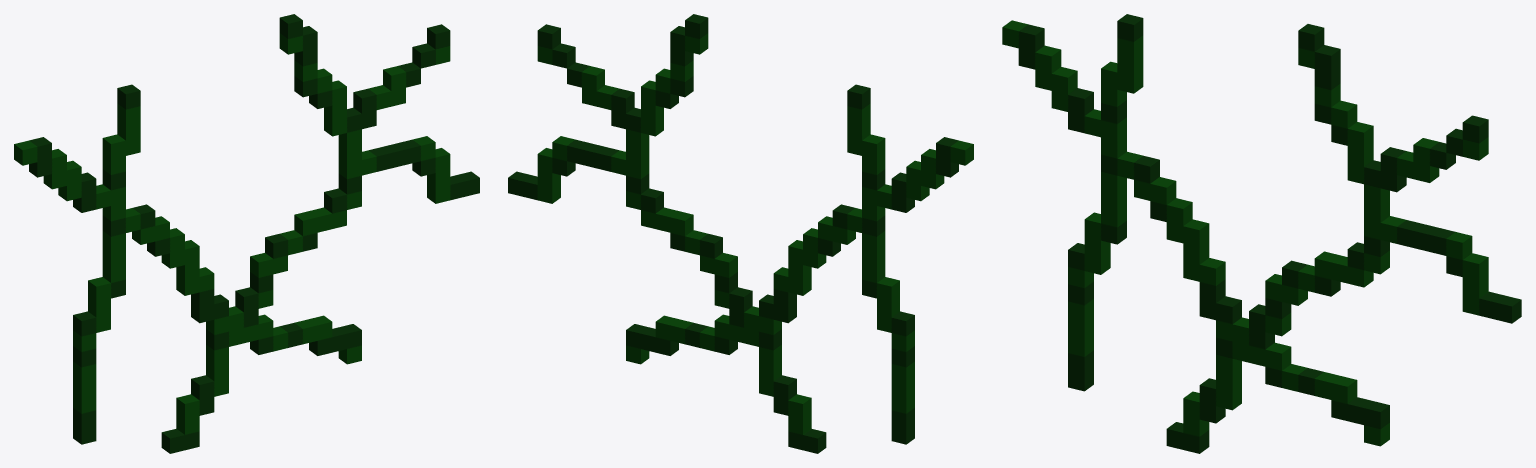
File: Pods_3.glb
The picture shows the model from 3 angles, left to right: view 1: azimuth 30°, elevation 25°; view 2: azimuth 150°, elevation 25°; view 3: azimuth 330°, elevation 25°; orthographic projection. The views are drawn at different scales.
Parts seen in each view (by area): view 1: Pods_3; view 2: Pods_3; view 3: Pods_3.
Boxes of the visible parts, x1=… form: Pods_3: x1=14, y1=14, x2=479, y2=453; Pods_3: x1=508, y1=14, x2=973, y2=453; Pods_3: x1=1002, y1=14, x2=1521, y2=453.
Bounding box in the file's own units: 3.1 × 2.6 × 0.1.
1 material, 1 textured.
